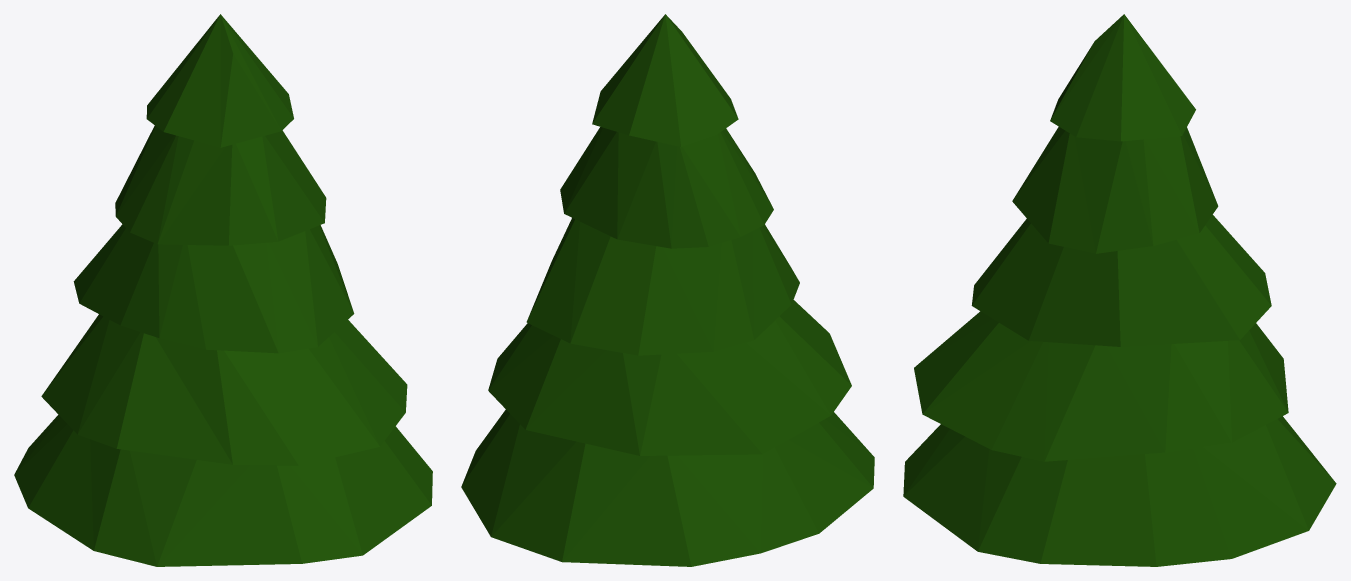
Rendered from tree2_1.FBX.
3 views of the same model, side by side, from view 1: azimuth 30°, elevation 25°; view 2: azimuth 150°, elevation 25°; view 3: azimuth 270°, elevation 25° (orthographic).
Parts seen in each view (by area): view 1: tree2_1_00; view 2: tree2_1_00; view 3: tree2_1_00.
Boxes of the visible parts, x1,y1,x2,y2 form: tree2_1_00: (14,14,432,566); tree2_1_00: (461,14,874,566); tree2_1_00: (903,14,1336,566).
Size of the model in its own units: 420 by 610 by 454.
